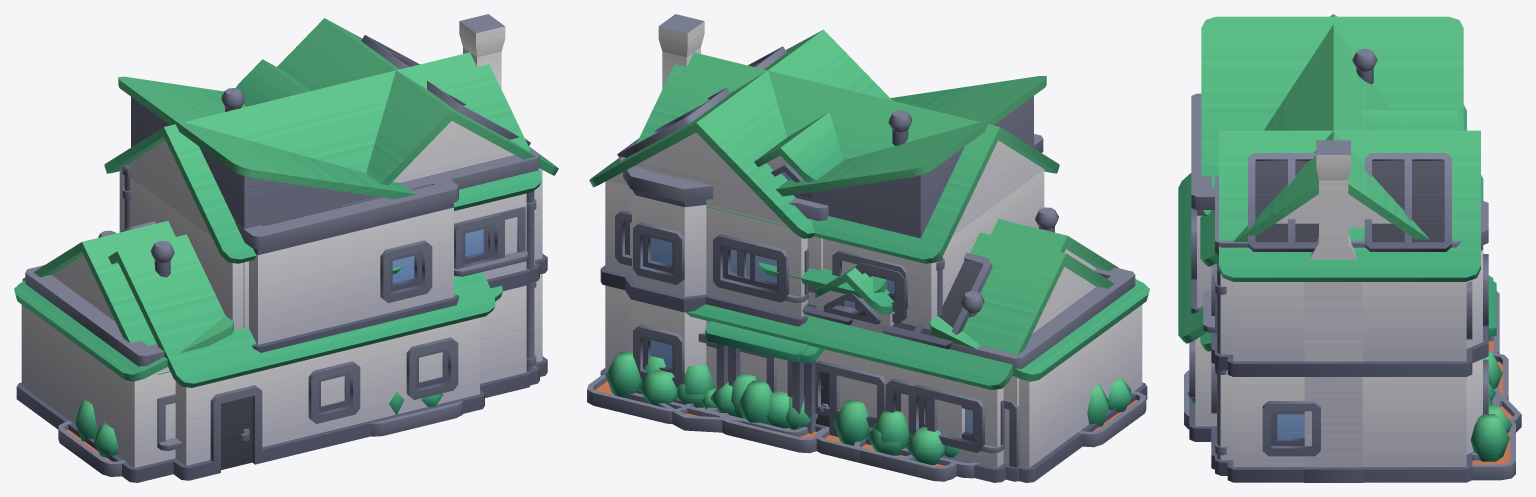
The model's file is town.glb.
3 renders of one model, left to right at view 1: azimuth 30°, elevation 25°; view 2: azimuth 150°, elevation 25°; view 3: azimuth 270°, elevation 25°, orthographic. The views are drawn at different scales.
Parts seen in each view (by area): view 1: building-type-d, building-type-g, building-type-b, building-c, building-type-k, building-e, building-type-h; view 2: building-type-b, building-type-d, building-e, building-type-h, building-type-k, building-type-a, building-type-g, building-c; view 3: building-type-b, building-type-d, building-type-k, building-e, building-type-g, building-c, building-type-a.
Part boxes in pixels (x1,y1,x2,y2): building-type-d: (14, 14, 541, 482); building-type-g: (108, 234, 495, 480); building-type-b: (22, 18, 558, 476); building-c: (235, 173, 458, 448); building-type-k: (118, 76, 415, 328); building-e: (25, 147, 539, 450); building-type-h: (117, 221, 175, 249); building-type-b: (587, 29, 1146, 482); building-type-d: (626, 14, 1149, 482); building-e: (619, 156, 1135, 481); building-type-h: (685, 232, 1030, 461); building-type-k: (706, 76, 1046, 436); building-type-a: (667, 262, 958, 481); building-type-g: (657, 207, 1118, 478); building-c: (719, 134, 1043, 453); building-type-b: (1184, 130, 1515, 482); building-type-d: (1200, 14, 1499, 482); building-type-k: (1201, 16, 1498, 406); building-e: (1203, 176, 1496, 475); building-type-g: (1178, 173, 1521, 441); building-c: (1191, 93, 1508, 414); building-type-a: (1200, 291, 1499, 437).
Bounding box in the file's own units: 1.83 × 1.24 × 1.18.
2 materials, 2 textured.
